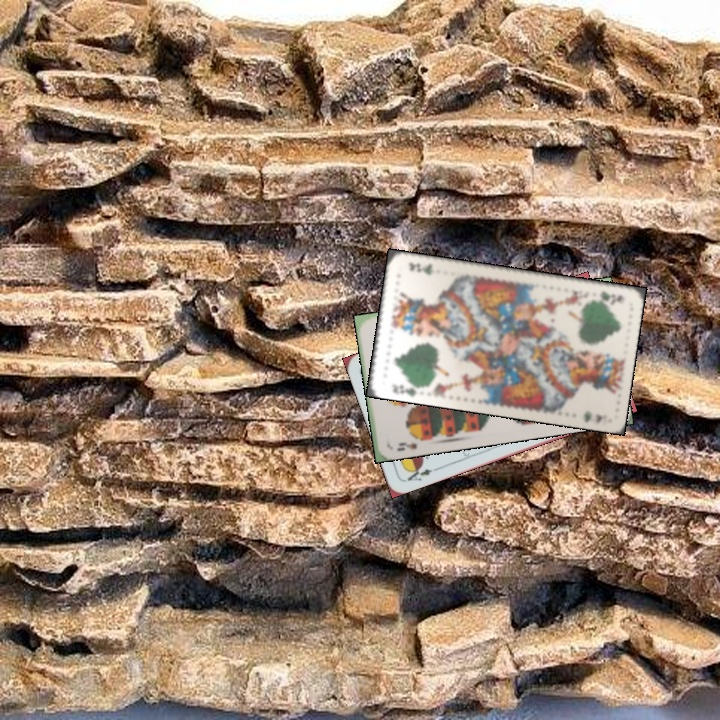EA: (401, 462, 441, 484)
GK: (388, 377, 424, 398), (587, 287, 626, 306)
S9: (393, 431, 428, 453)
